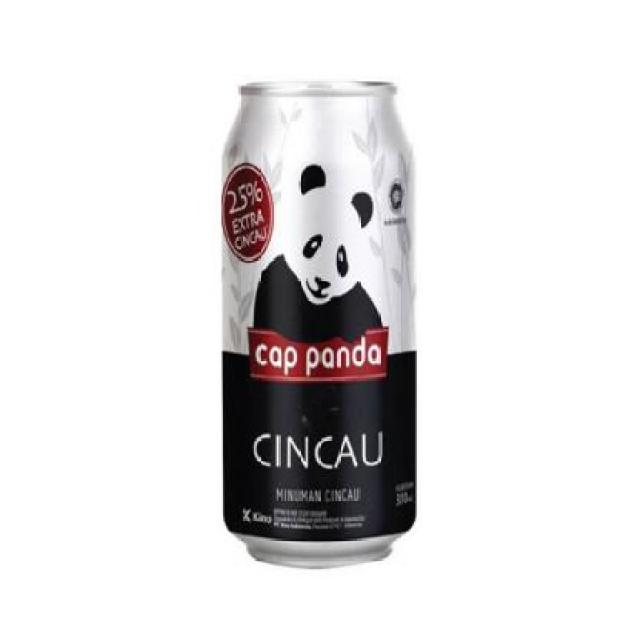Metal: (220, 80, 420, 571)
